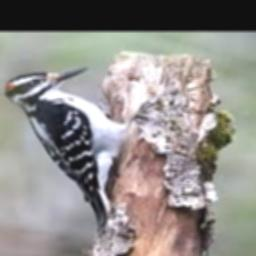Woodpecker: (5, 66, 129, 230)
